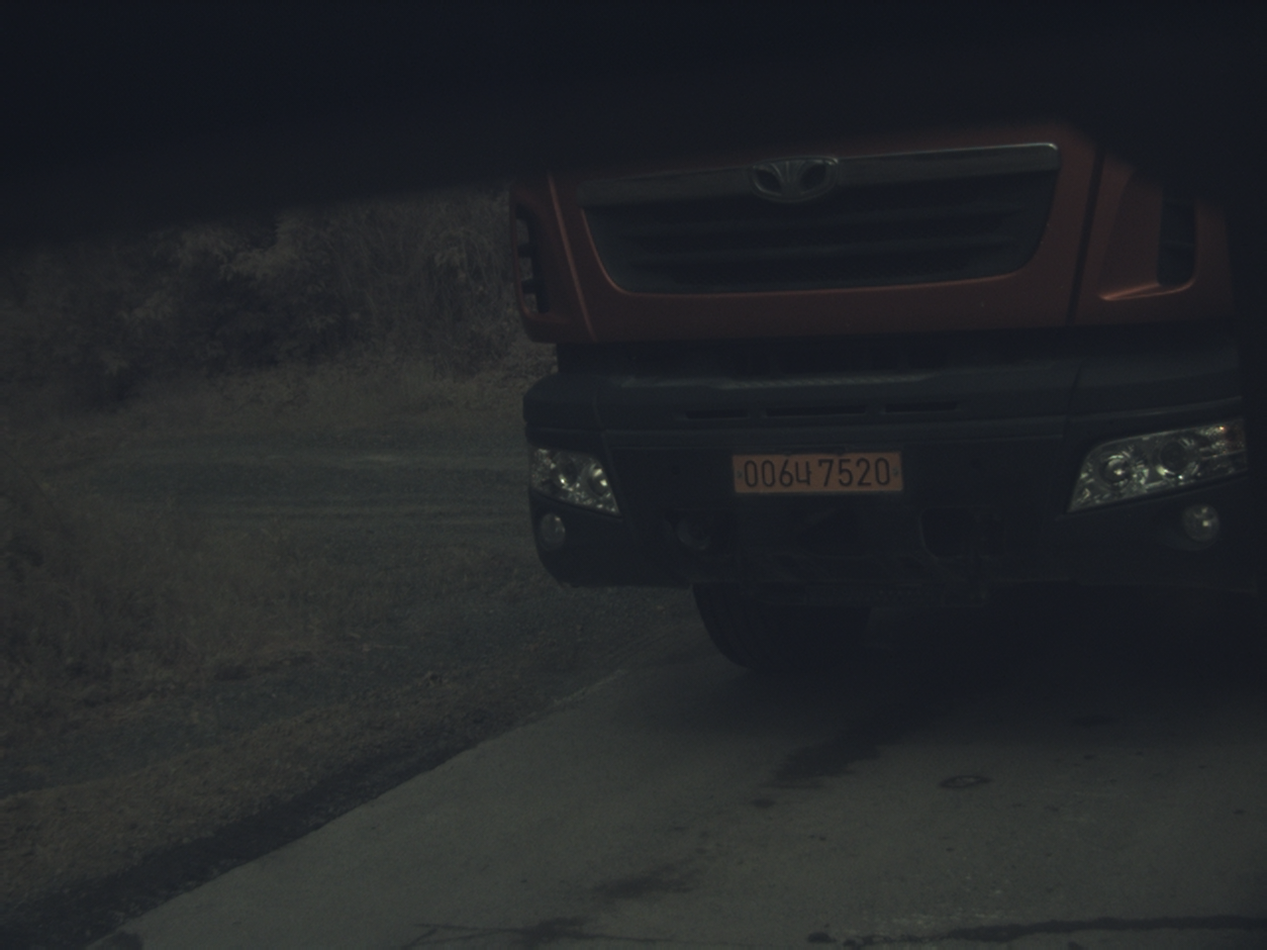license_plate: (732, 453, 901, 494)
truck: (512, 124, 1255, 672)
